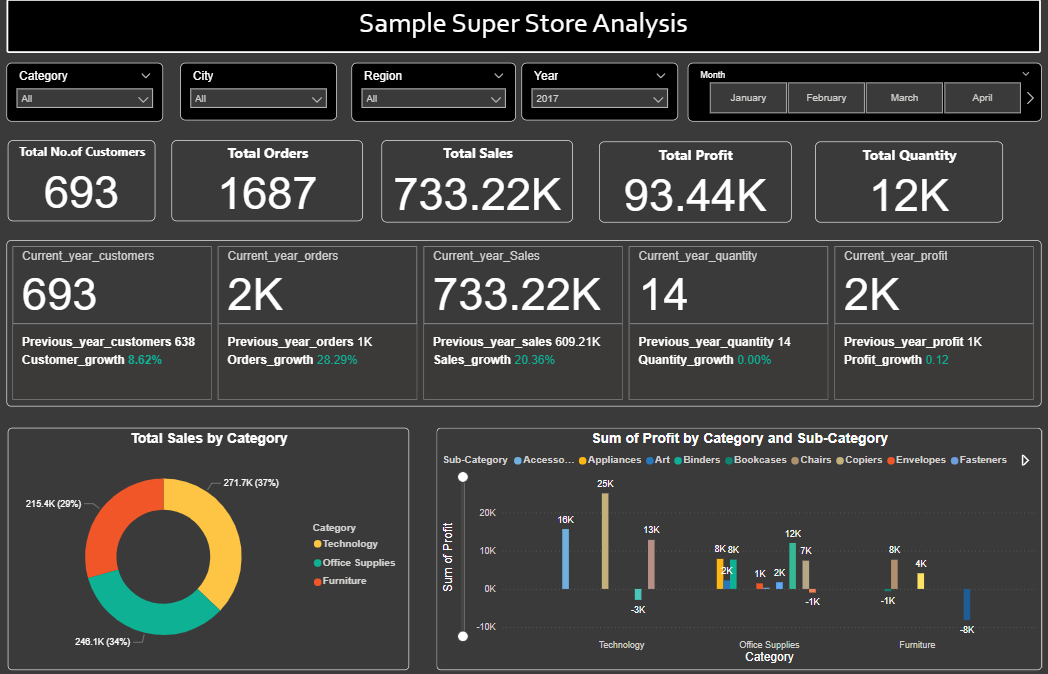

This screenshot's page, from the dashboard's own definition file:
{"tool":"powerbi","page":{"name":"Page 1","canvas":[1400,1200],"ordinal":0},"visuals":[{"type":"textbox","box":[10.4,0,1379.4,71.7],"z":0},{"type":"slicer","fields":{"Values":["Orders.Category"]},"box":[10.4,84.7,208.6,78.2],"z":1000},{"type":"card","title":"Total Profit","fields":{"Values":["Sum(Orders.Profit)"]},"box":[799.2,190.4,256.8,108.2],"z":2000},{"type":"slicer","fields":{"Values":["Orders.City"]},"box":[241.2,84.7,208.6,76.9],"z":3000},{"type":"slicer","fields":{"Values":["Orders.Region"]},"box":[469.4,84.7,219,78.2],"z":4000},{"type":"slicer","fields":{"Values":["Orders.Year"]},"box":[696.2,84.7,208.6,76.9],"z":5000},{"type":"slicer","fields":{"Values":["Orders.Order Date.Variation.Date Hierarchy.Month"]},"box":[917.9,84.7,472,78.2],"z":6000},{"type":"card","title":"Total No.of Customers","fields":{"Values":["Count(Orders.Customer ID)"]},"box":[11.7,189,196.9,108.2],"z":7000},{"type":"card","title":"Total Orders","fields":{"Values":["Count(Orders.Order ID)"]},"box":[230.8,189,255.5,108.2],"z":8000},{"type":"card","title":"Total Sales","fields":{"Values":["Sum(Orders.Sales)"]},"box":[509.8,189,255.5,109.5],"z":9000},{"type":"card","title":"Total Quantity","fields":{"Values":["Sum(Orders.Quantity)"]},"box":[1088.7,190.4,250.3,108.2],"z":10000},{"type":"cardVisual","fields":{"Data":["Calculations.Current_year_customers","Calculations.current_year_orders","Calculations.CY_Sales","Calculations.current_year_quantity","Calculations.current_year_profit"]},"box":[10,321.7,1380,221.7],"z":11000},{"type":"donutChart","title":"Total Sales by Category","fields":{"Y":["Sum(Orders.Sales)"],"Category":["Orders.Category"]},"box":[11.7,571.7,535,323.3],"z":12000},{"type":"clusteredColumnChart","fields":{"Category":["Orders.Category"],"Series":["Orders.Sub-Category"],"Y":["Sum(Orders.Profit)"]},"box":[582.8,571.1,807,323.3],"z":13000},{"type":"lineChart","fields":{"Y":["Sum(Orders.Sales)"],"Category":["Orders.Order Date.Variation.Date Hierarchy.Year","Orders.Order Date.Variation.Date Hierarchy.Quarter","Orders.Order Date.Variation.Date Hierarchy.Month","Orders.Order Date.Variation.Date Hierarchy.Day"]},"box":[11.7,917.9,1378.1,238.6],"z":14000}]}

Visuals, with their boxes on the page's 1400x1200 design canvas (x1, y1, x2, y2). These are canvas units, not pixel positions in the 1048x674 screenshot, which may show the page scaled, cropped or inside an application window:
textbox: BBox(10, 0, 1390, 72)
slicer - Orders.Category: BBox(10, 85, 219, 163)
"Total Profit" card: BBox(799, 190, 1056, 299)
slicer - Orders.City: BBox(241, 85, 450, 162)
slicer - Orders.Region: BBox(469, 85, 688, 163)
slicer - Orders.Year: BBox(696, 85, 905, 162)
slicer - Orders.Order Date.Variation.Date Hierarchy.Month: BBox(918, 85, 1390, 163)
"Total No.of Customers" card: BBox(12, 189, 209, 297)
"Total Orders" card: BBox(231, 189, 486, 297)
"Total Sales" card: BBox(510, 189, 765, 298)
"Total Quantity" card: BBox(1089, 190, 1339, 299)
cardVisual - Calculations.Current_year_customers x Calculations.current_year_orders: BBox(10, 322, 1390, 543)
"Total Sales by Category" donutChart: BBox(12, 572, 547, 895)
clusteredColumnChart - Orders.Category x Orders.Sub-Category: BBox(583, 571, 1390, 894)
lineChart - Sum(Orders.Sales) x Orders.Order Date.Variation.Date Hierarchy.Year: BBox(12, 918, 1390, 1156)
